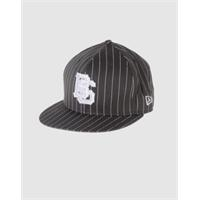hat: (39, 40, 154, 132)
